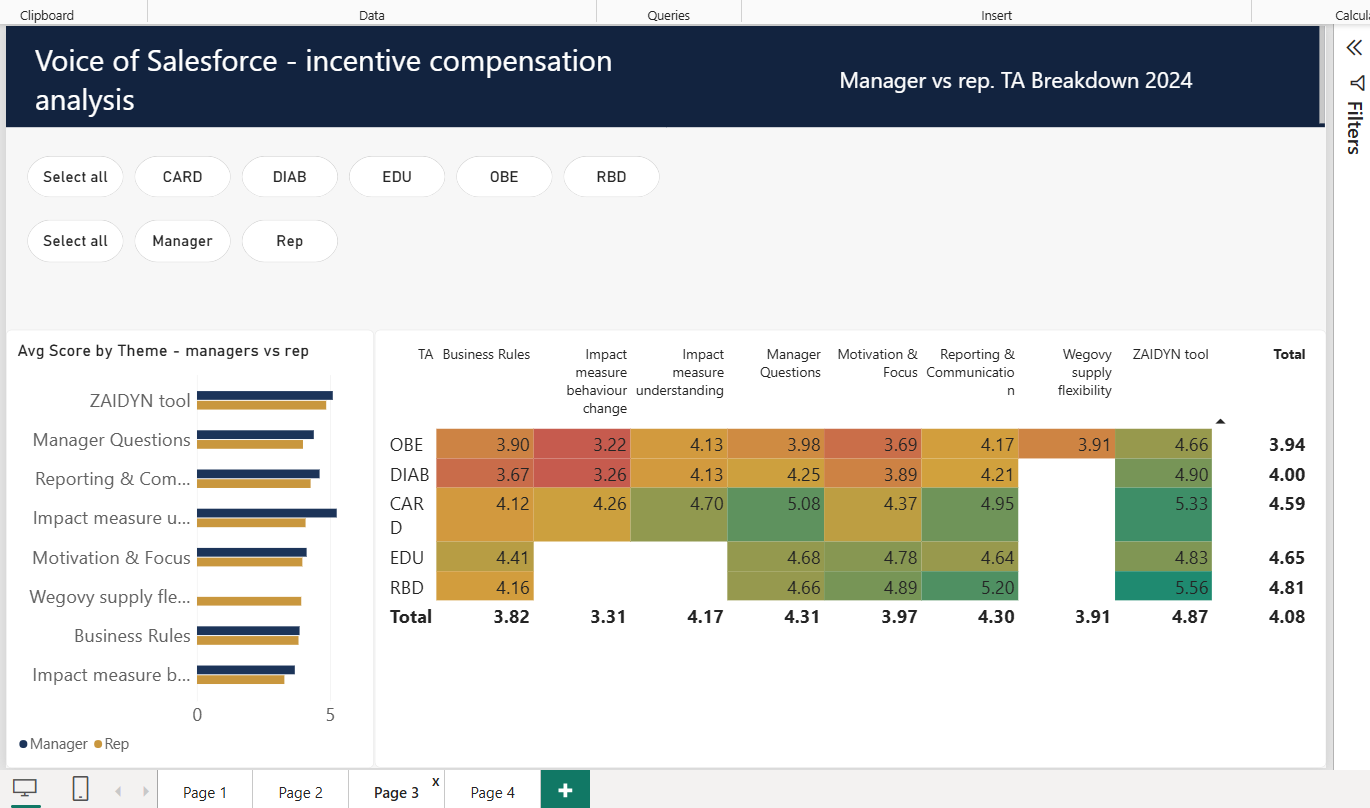

The page's visual inventory and layout, read from the dashboard file:
{"tool":"powerbi","page":{"name":"Page 3","canvas":[1920,1080],"ordinal":2},"visuals":[{"type":"clusteredBarChart","title":"Avg Score by Theme - managers vs rep","fields":{"Category":["Question_Map.Theme"],"Y":["Fact_Sentiment_Long.Avg Score"],"Series":["Fact_Sentiment_Long.Role Level"]},"box":[0,441.6,535.5,637.9],"z":0},{"type":"pivotTable","fields":{"Rows":["Fact_Sentiment_Long.TA"],"Columns":["Question_Map.Theme"],"Values":["Fact_Sentiment_Long.Avg Score"]},"box":[535.7,441.6,1384.4,637],"z":1000},{"type":"textbox","box":[0,0,960.9,147.2],"z":2000},{"type":"textbox","box":[960.9,0,958.7,147.2],"z":3000},{"type":"advancedSlicerVisual","fields":{"Values":["Fact_Sentiment_Long.TA"]},"box":[10.8,188.3,1869.8,60.6],"z":4000},{"type":"advancedSlicerVisual","fields":{"Values":["Fact_Sentiment_Long.Role Level"]},"box":[10.8,281.3,1869.8,62.8],"z":5000}]}

Visuals, with their boxes on the page's 1920x1080 design canvas (x1, y1, x2, y2). These are canvas units, not pixel positions in the 1370x808 screenshot, which may show the page scaled, cropped or inside an application window:
"Avg Score by Theme - managers vs rep" clusteredBarChart: (0, 442, 536, 1080)
pivotTable - Fact_Sentiment_Long.TA x Question_Map.Theme: (536, 442, 1920, 1079)
textbox: (0, 0, 961, 147)
textbox: (961, 0, 1920, 147)
advancedSlicerVisual - Fact_Sentiment_Long.TA: (11, 188, 1881, 249)
advancedSlicerVisual - Fact_Sentiment_Long.Role Level: (11, 281, 1881, 344)
